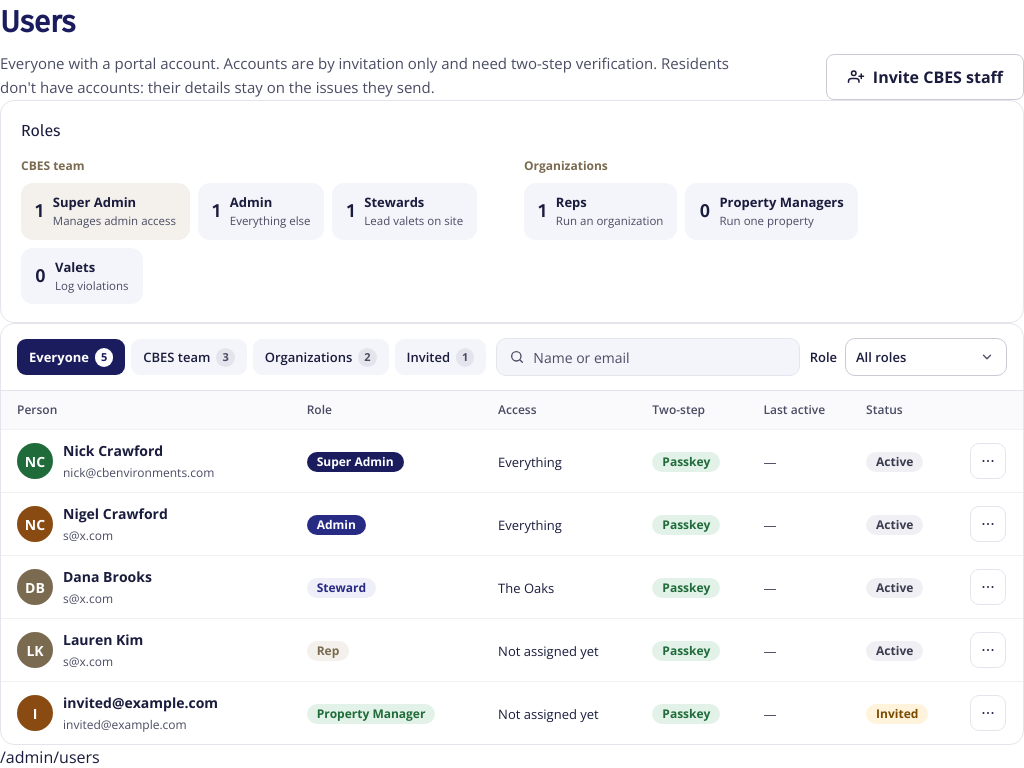
Test: Users roles › replaces Rep with Property Manager on the selected properties
This screenshot has width=1024, height=768.
Click the button named "Actions for Lauren Kim". click: (988,650)
box: [970, 632, 1006, 668]
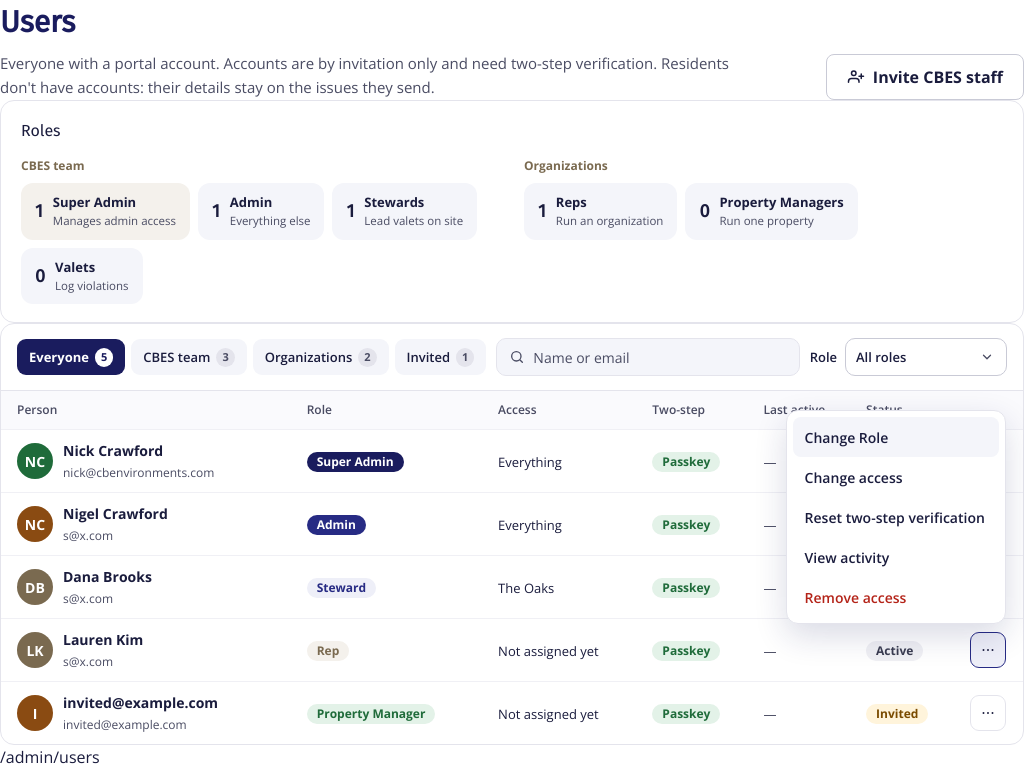
Click the menu item "Change Role". click: (896,437)
box: [793, 417, 999, 457]
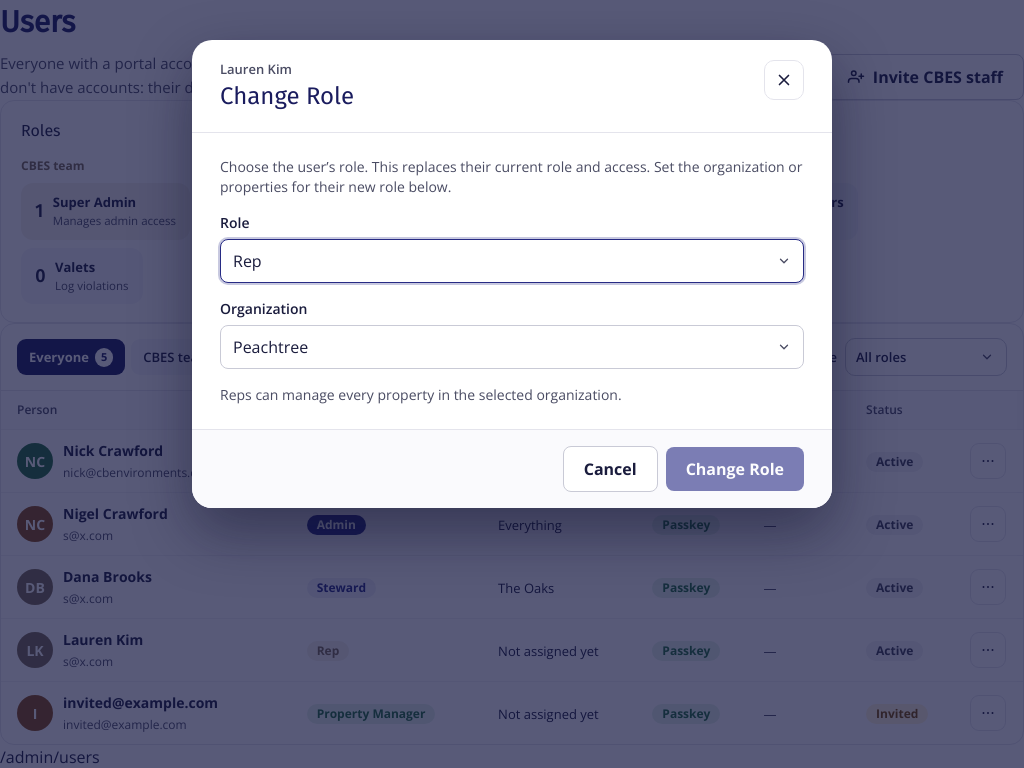
Result: the dropdown labelled "Role" shows "Rep"
Select "Property Manager" in the dropdown labelled "Role". click: (512,260)
box: [220, 238, 804, 282]
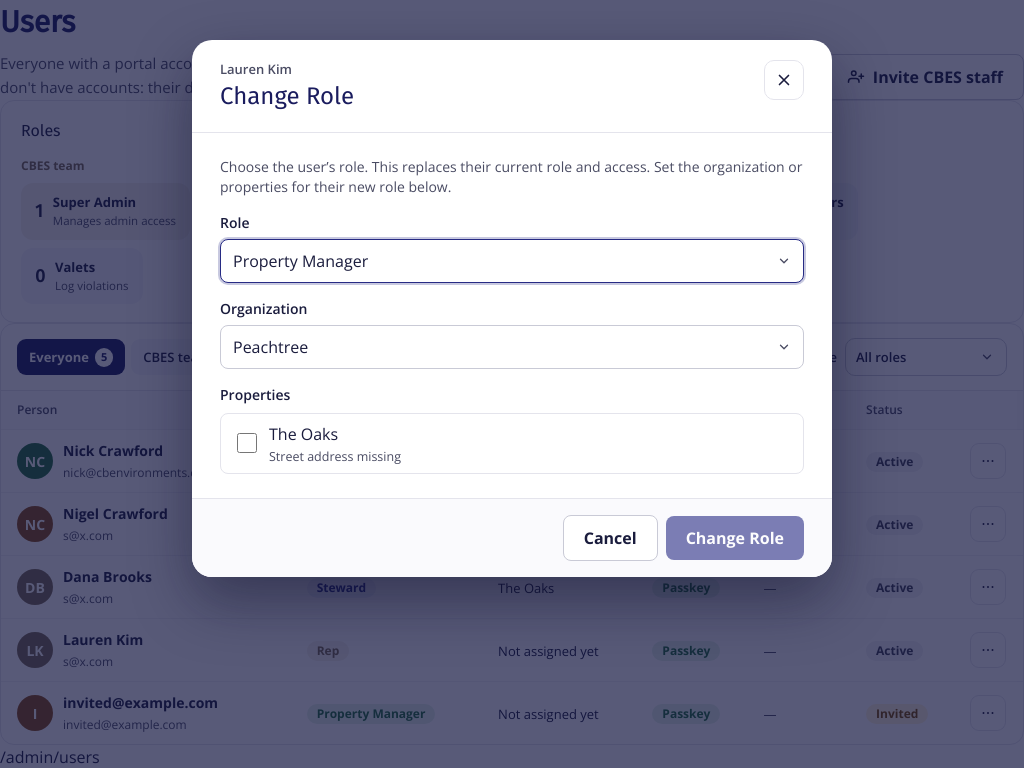
Result: the button "Change Role" is disabled at [666, 516, 804, 560]
Click the checkbox labelled "The Oaks Street address missing". click: (247,443)
box: [237, 433, 257, 453]
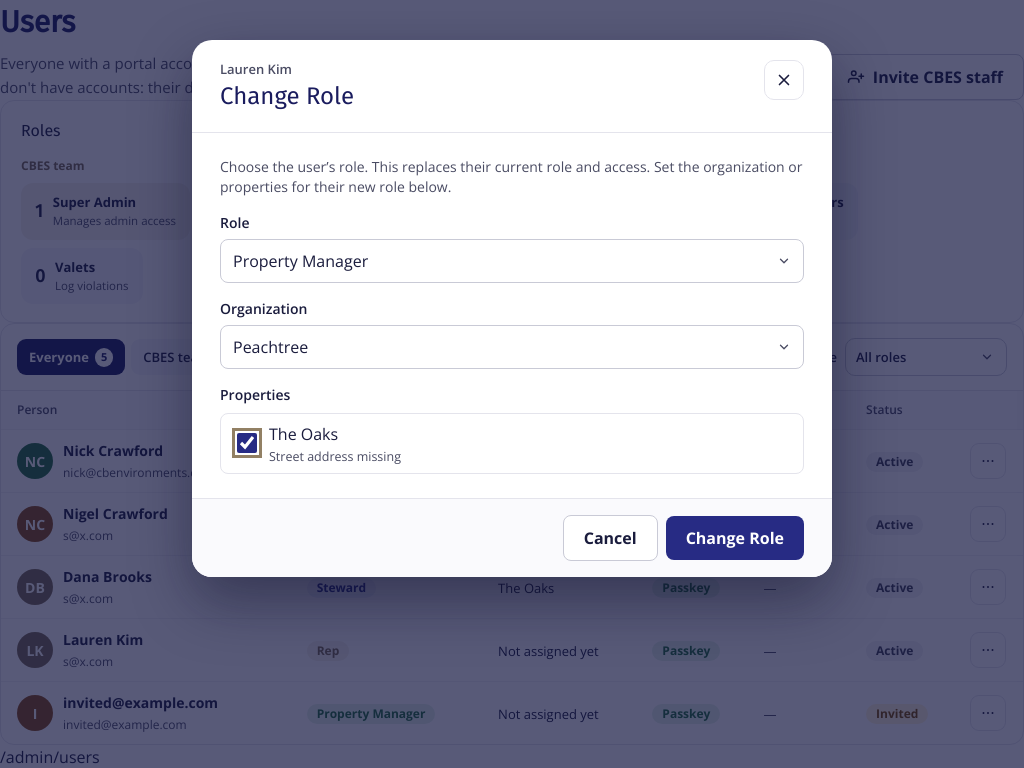
Click the button "Change Role". click: (735,538)
box: [666, 516, 804, 560]
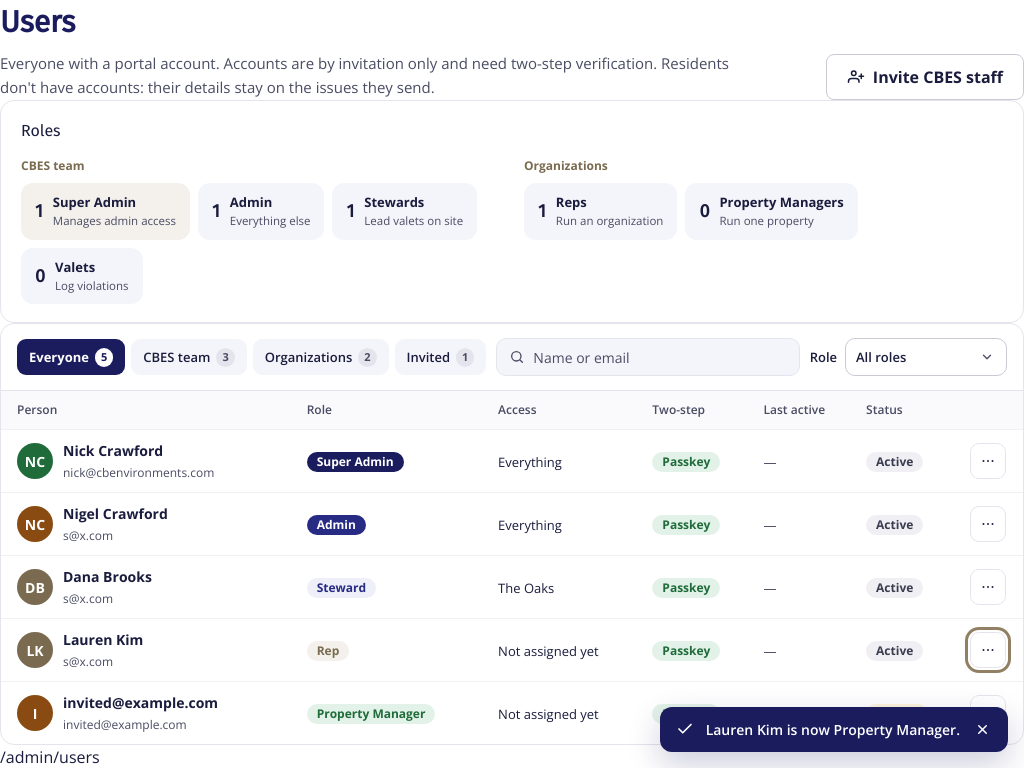
Result: the text "Lauren Kim is now Property Manager." is shown at [706, 719, 960, 740]
